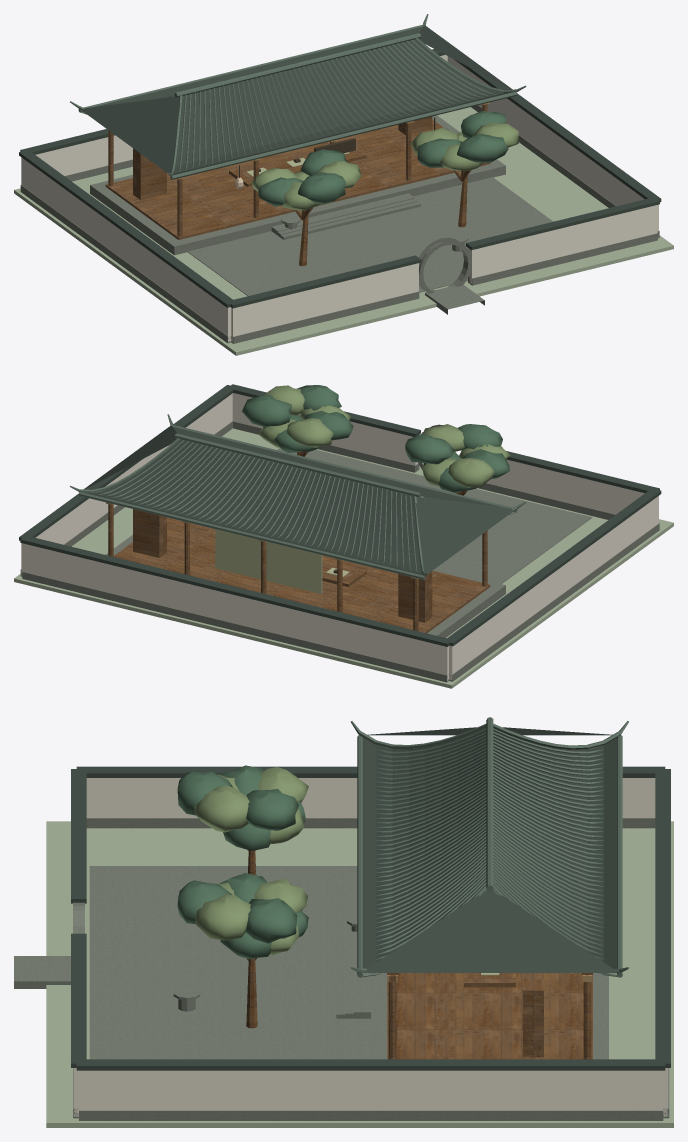
File: qiushuangzhai.glb
3 renders of one model, top to bottom at view 1: azimuth 30°, elevation 25°; view 2: azimuth 150°, elevation 25°; view 3: azimuth 270°, elevation 25°, orthographic. The views are drawn at different scales.
Visible parts, largest first — view 1: qiushuangzhai_roof, qiushuangzhai_stone, qiushuangzhai_plaster, qiushuangzhai_wood, qiushuangzhai_earth, qiushuangzhai_tile, qiushuangzhai_leaf, qiushuangzhai_lightleaf; view 2: qiushuangzhai_roof, qiushuangzhai_plaster, qiushuangzhai_stone, qiushuangzhai_wood, qiushuangzhai_tile, qiushuangzhai_earth, qiushuangzhai_leaf, qiushuangzhai_lightleaf, qiushuangzhai_paper; view 3: qiushuangzhai_roof, qiushuangzhai_stone, qiushuangzhai_tile, qiushuangzhai_plaster, qiushuangzhai_earth, qiushuangzhai_wood, qiushuangzhai_leaf, qiushuangzhai_lightleaf.
Boxes of the visible parts, left/top/right/bottom form: qiushuangzhai_roof: left=19, top=25, right=661, bottom=308; qiushuangzhai_stone: left=20, top=105, right=659, bottom=343; qiushuangzhai_plaster: left=21, top=55, right=658, bottom=342; qiushuangzhai_wood: left=105, top=104, right=490, bottom=266; qiushuangzhai_earth: left=14, top=107, right=673, bottom=355; qiushuangzhai_tile: left=70, top=14, right=526, bottom=179; qiushuangzhai_leaf: left=258, top=111, right=508, bottom=206; qiushuangzhai_lightleaf: left=251, top=122, right=518, bottom=210; qiushuangzhai_roof: left=19, top=384, right=661, bottom=646; qiushuangzhai_plaster: left=21, top=393, right=658, bottom=680; qiushuangzhai_stone: left=20, top=421, right=659, bottom=682; qiushuangzhai_wood: left=108, top=451, right=490, bottom=633; qiushuangzhai_tile: left=70, top=414, right=526, bottom=579; qiushuangzhai_earth: left=14, top=428, right=673, bottom=688; qiushuangzhai_leaf: left=242, top=385, right=509, bottom=493; qiushuangzhai_lightleaf: left=258, top=385, right=510, bottom=487; qiushuangzhai_paper: left=215, top=529, right=349, bottom=593; qiushuangzhai_roof: left=71, top=727, right=670, bottom=1070; qiushuangzhai_stone: left=14, top=818, right=669, bottom=1120; qiushuangzhai_tile: left=351, top=717, right=629, bottom=977; qiushuangzhai_plaster: left=73, top=778, right=668, bottom=1116; qiushuangzhai_earth: left=46, top=821, right=673, bottom=1127; qiushuangzhai_wood: left=246, top=850, right=592, bottom=1059; qiushuangzhai_leaf: left=177, top=765, right=308, bottom=958; qiushuangzhai_lightleaf: left=194, top=767, right=308, bottom=955.
Bounding box in the file's own units: 33 × 9.02 × 30.5.
12 materials, 2 textured.
